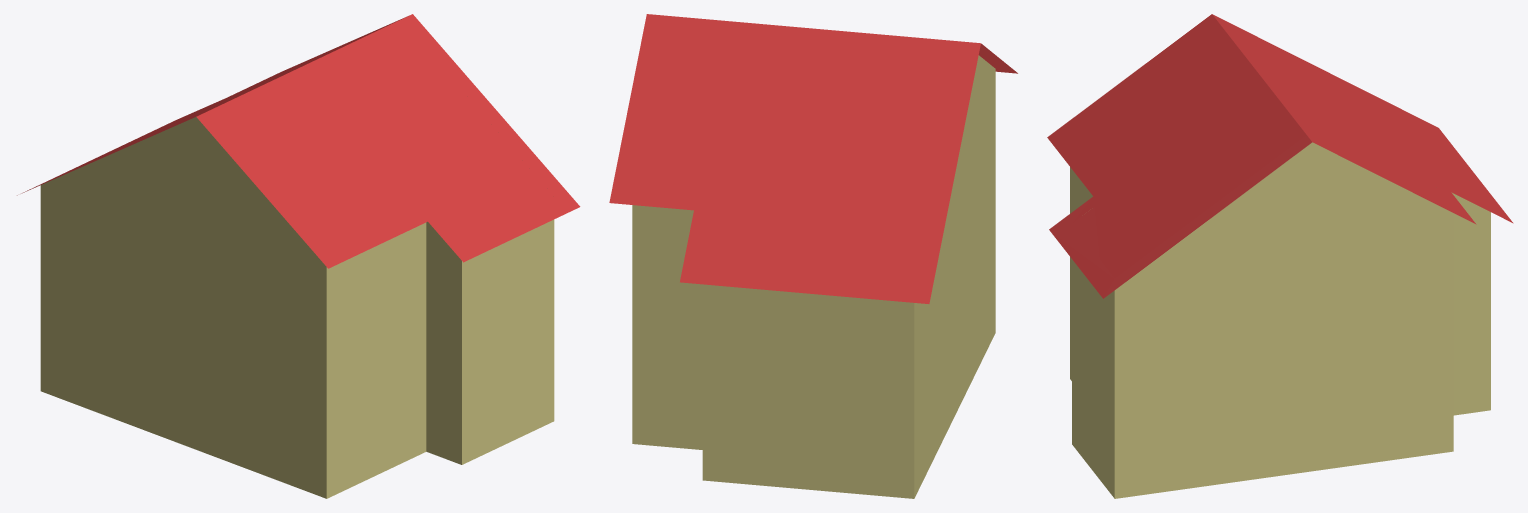
3 renders of one model, left to right at view 1: azimuth 30°, elevation 25°; view 2: azimuth 150°, elevation 25°; view 3: azimuth 270°, elevation 25°, orthographic. The views are drawn at different scales.
Bounding box in the file's own units: 12.33 × 12.85 × 10.24.
